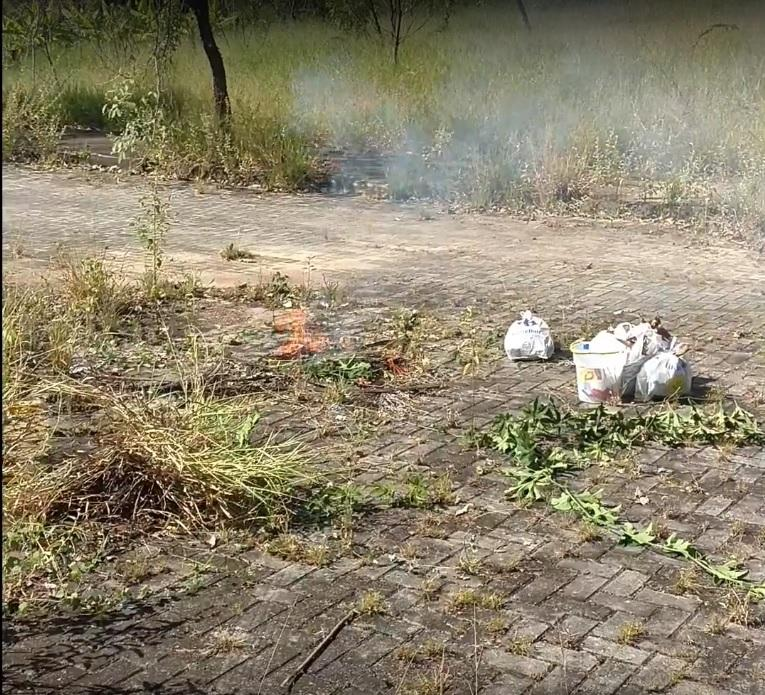Fire: (278, 314, 325, 357)
